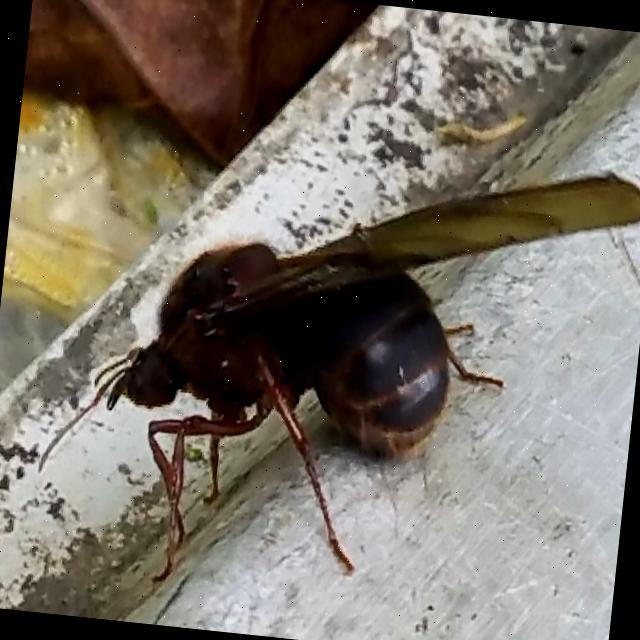Alive-Female-Alate: (24, 113, 640, 640)
